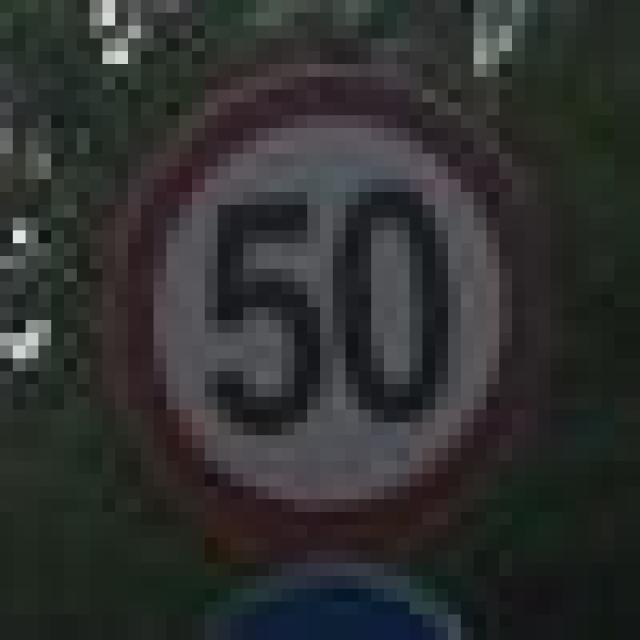speed_limit_30: (90, 51, 538, 538)
